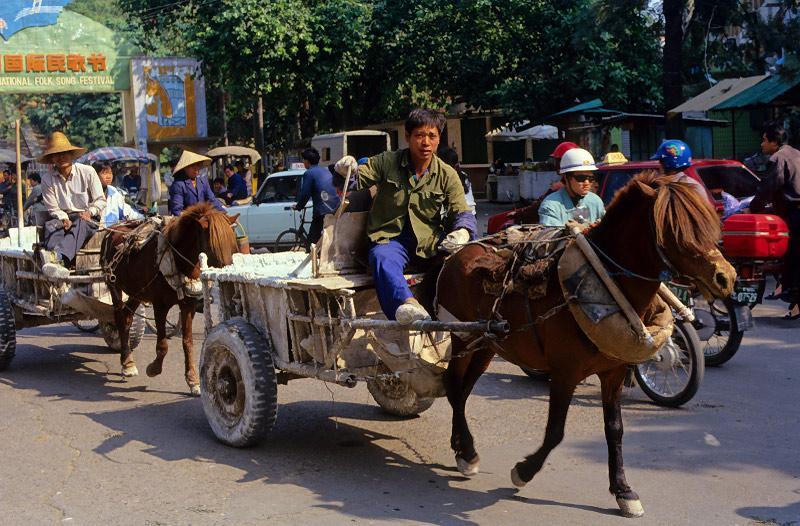horse: (432, 168, 738, 517), (100, 201, 240, 393)
